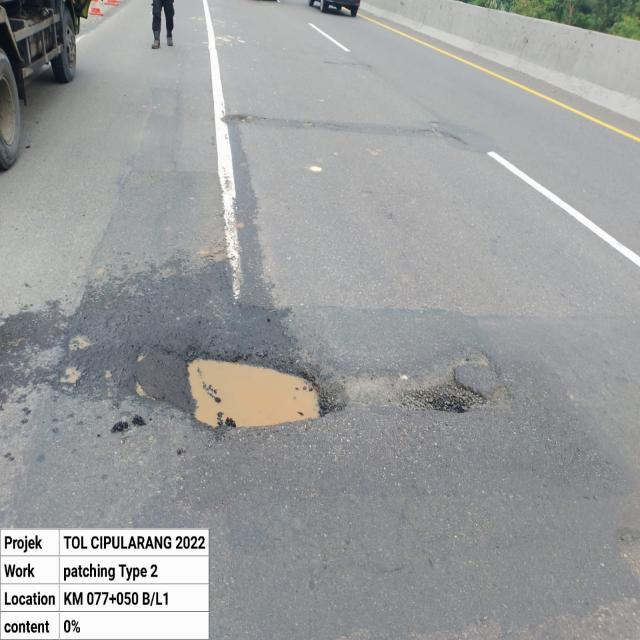Buraco: (124, 338, 520, 437), (48, 359, 91, 397), (62, 327, 102, 356), (219, 112, 264, 127)
